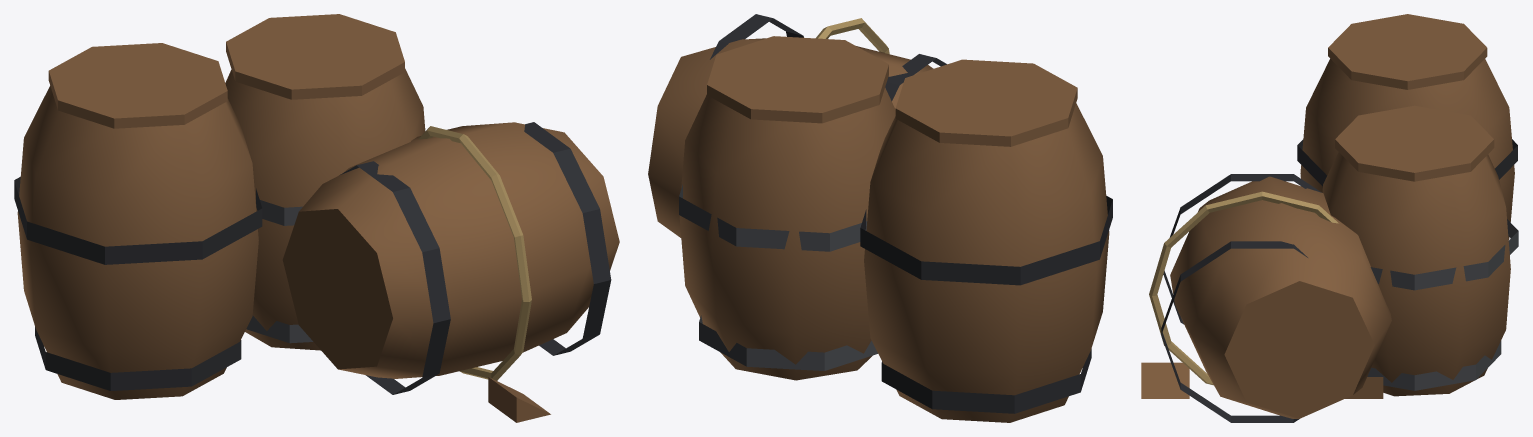
The model's file is SM_Barrel_Rustic_01_Stack.glb.
3 renders of one model, left to right at view 1: azimuth 30°, elevation 25°; view 2: azimuth 150°, elevation 25°; view 3: azimuth 270°, elevation 25°, orthographic. The views are drawn at different scales.
Visible parts, largest first — view 1: SM_Barrel_Rustic_01_Stack_Lying, SM_Barrel_Rustic_01_Stack_Up0, SM_Barrel_Rustic_01_Stack_Up1, SM_Barrel_Rustic_01_Stack_Up0Lid, SM_Barrel_Rustic_01_Stack_Up1Lid, SM_Barrel_Rustic_01_Stack_Up0Hoop1, SM_Barrel_Rustic_01_Stack_LyHoop0, SM_Barrel_Rustic_01_Stack_LyHoop1, SM_Barrel_Rustic_01_Stack_Up0Hoop0, SM_Barrel_Rustic_01_Stack_CradleRope, SM_Barrel_Rustic_01_Stack_Chock0, SM_Barrel_Rustic_01_Stack_Up1Hoop0 (+1 smaller); view 2: SM_Barrel_Rustic_01_Stack_Up0, SM_Barrel_Rustic_01_Stack_Up1, SM_Barrel_Rustic_01_Stack_Up0Lid, SM_Barrel_Rustic_01_Stack_Up1Lid, SM_Barrel_Rustic_01_Stack_Lying, SM_Barrel_Rustic_01_Stack_Up0Hoop1, SM_Barrel_Rustic_01_Stack_Up0Hoop0, SM_Barrel_Rustic_01_Stack_Up1Hoop1, SM_Barrel_Rustic_01_Stack_Up1Hoop0, SM_Barrel_Rustic_01_Stack_LyHoop1, SM_Barrel_Rustic_01_Stack_CradleRope, SM_Barrel_Rustic_01_Stack_LyHoop0; view 3: SM_Barrel_Rustic_01_Stack_Lying, SM_Barrel_Rustic_01_Stack_Up1, SM_Barrel_Rustic_01_Stack_Up0, SM_Barrel_Rustic_01_Stack_Up0Lid, SM_Barrel_Rustic_01_Stack_Up1Lid, SM_Barrel_Rustic_01_Stack_CradleRope, SM_Barrel_Rustic_01_Stack_LyHoop1, SM_Barrel_Rustic_01_Stack_Up1Hoop1, SM_Barrel_Rustic_01_Stack_Chock0, SM_Barrel_Rustic_01_Stack_Up1Hoop0, SM_Barrel_Rustic_01_Stack_LyHoop0, SM_Barrel_Rustic_01_Stack_Up0Hoop1 (+1 smaller).
Part boxes in pixels (bbox=[...]): SM_Barrel_Rustic_01_Stack_Lying: bbox=[282, 122, 619, 378]; SM_Barrel_Rustic_01_Stack_Up0: bbox=[17, 86, 258, 399]; SM_Barrel_Rustic_01_Stack_Up1: bbox=[225, 68, 425, 350]; SM_Barrel_Rustic_01_Stack_Up0Lid: bbox=[48, 43, 227, 128]; SM_Barrel_Rustic_01_Stack_Up1Lid: bbox=[226, 14, 404, 99]; SM_Barrel_Rustic_01_Stack_Up0Hoop1: bbox=[14, 177, 262, 264]; SM_Barrel_Rustic_01_Stack_LyHoop0: bbox=[339, 161, 450, 394]; SM_Barrel_Rustic_01_Stack_LyHoop1: bbox=[524, 122, 611, 355]; SM_Barrel_Rustic_01_Stack_Up0Hoop0: bbox=[35, 327, 241, 390]; SM_Barrel_Rustic_01_Stack_CradleRope: bbox=[419, 126, 531, 380]; SM_Barrel_Rustic_01_Stack_Chock0: bbox=[488, 377, 550, 422]; SM_Barrel_Rustic_01_Stack_Up1Hoop0: bbox=[246, 315, 313, 343]; SM_Barrel_Rustic_01_Stack_Up0: bbox=[864, 103, 1109, 422]; SM_Barrel_Rustic_01_Stack_Up1: bbox=[679, 87, 895, 380]; SM_Barrel_Rustic_01_Stack_Up0Lid: bbox=[895, 59, 1077, 146]; SM_Barrel_Rustic_01_Stack_Up1Lid: bbox=[707, 36, 888, 123]; SM_Barrel_Rustic_01_Stack_Lying: bbox=[648, 38, 933, 237]; SM_Barrel_Rustic_01_Stack_Up0Hoop1: bbox=[860, 196, 1112, 285]; SM_Barrel_Rustic_01_Stack_Up0Hoop0: bbox=[881, 349, 1091, 413]; SM_Barrel_Rustic_01_Stack_Up1Hoop1: bbox=[679, 184, 867, 251]; SM_Barrel_Rustic_01_Stack_Up1Hoop0: bbox=[699, 315, 877, 370]; SM_Barrel_Rustic_01_Stack_LyHoop1: bbox=[710, 14, 803, 59]; SM_Barrel_Rustic_01_Stack_CradleRope: bbox=[816, 18, 889, 54]; SM_Barrel_Rustic_01_Stack_LyHoop0: bbox=[885, 54, 946, 101]; SM_Barrel_Rustic_01_Stack_Lying: bbox=[1170, 176, 1391, 418]; SM_Barrel_Rustic_01_Stack_Up1: bbox=[1322, 152, 1510, 396]; SM_Barrel_Rustic_01_Stack_Up0: bbox=[1300, 58, 1514, 239]; SM_Barrel_Rustic_01_Stack_Up0Lid: bbox=[1328, 14, 1487, 89]; SM_Barrel_Rustic_01_Stack_Up1Lid: bbox=[1335, 105, 1494, 181]; SM_Barrel_Rustic_01_Stack_CradleRope: bbox=[1149, 191, 1338, 385]; SM_Barrel_Rustic_01_Stack_LyHoop1: bbox=[1161, 241, 1307, 422]; SM_Barrel_Rustic_01_Stack_Up1Hoop1: bbox=[1370, 219, 1518, 290]; SM_Barrel_Rustic_01_Stack_Chock0: bbox=[1141, 362, 1189, 398]; SM_Barrel_Rustic_01_Stack_Up1Hoop0: bbox=[1367, 340, 1501, 390]; SM_Barrel_Rustic_01_Stack_LyHoop0: bbox=[1163, 174, 1321, 324]; SM_Barrel_Rustic_01_Stack_Up0Hoop1: bbox=[1297, 139, 1517, 186].
Size of the model in its own units: 1.39 by 0.7934 by 1.09.
